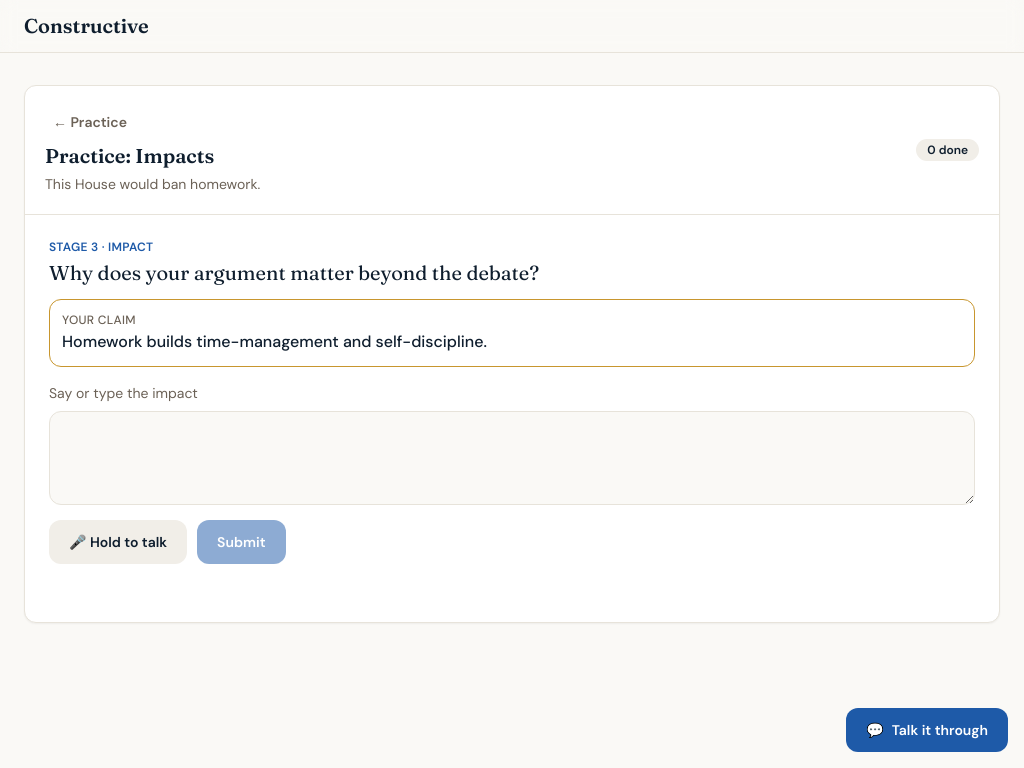
Test: PracticeShell › completes an impact rep, increments the count, and serves a fresh rep
Expected: the text "Why does your argument matter beyond the debate?" is shown, [49, 260, 539, 285]
Type "kids get more sleep" into the text box at (512, 458), box [49, 411, 975, 505]
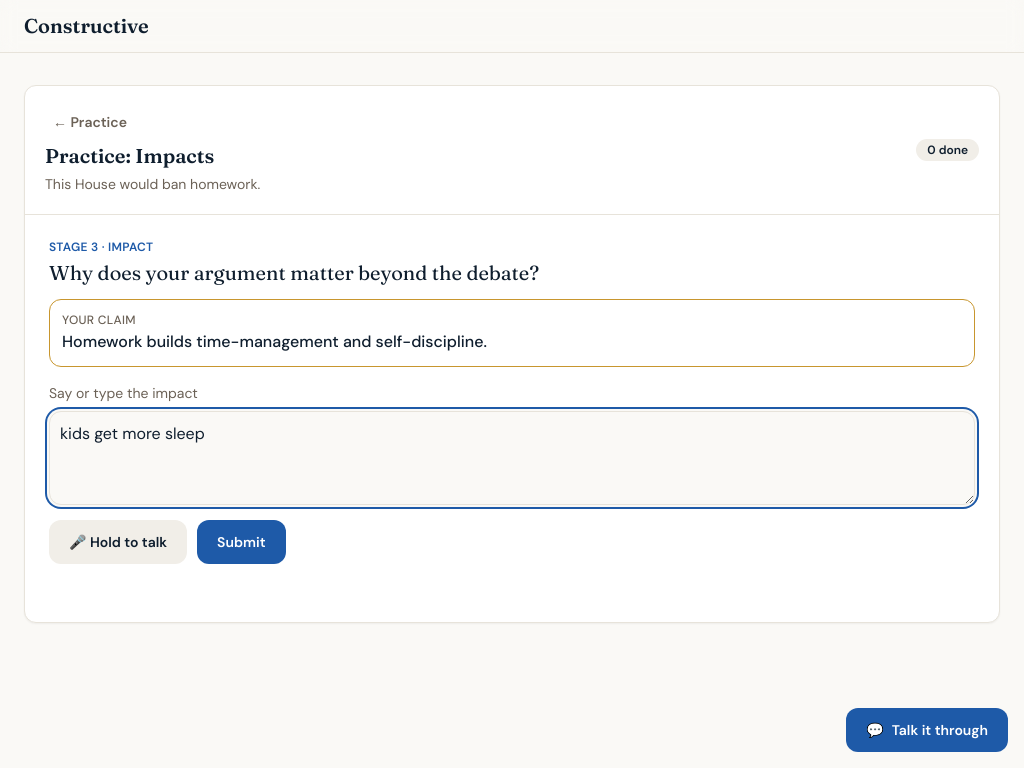
Click the button "Submit" at (241, 542), box [197, 520, 286, 564]
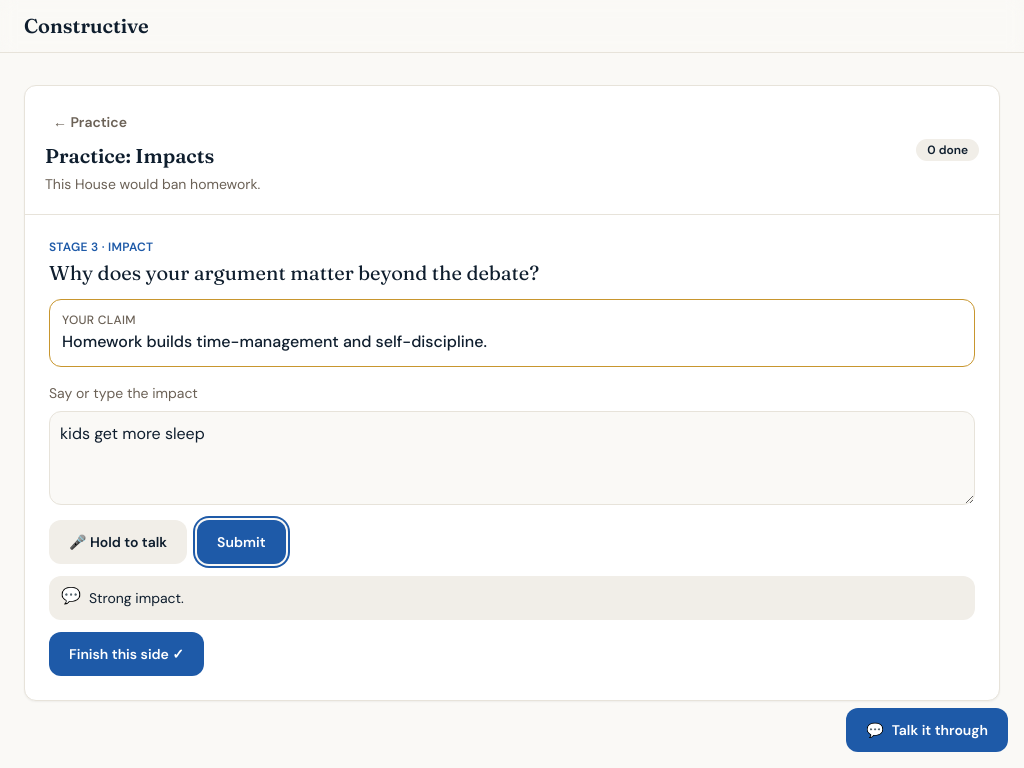
Click the button "Finish this side ✓" at (127, 654), box [49, 632, 204, 676]
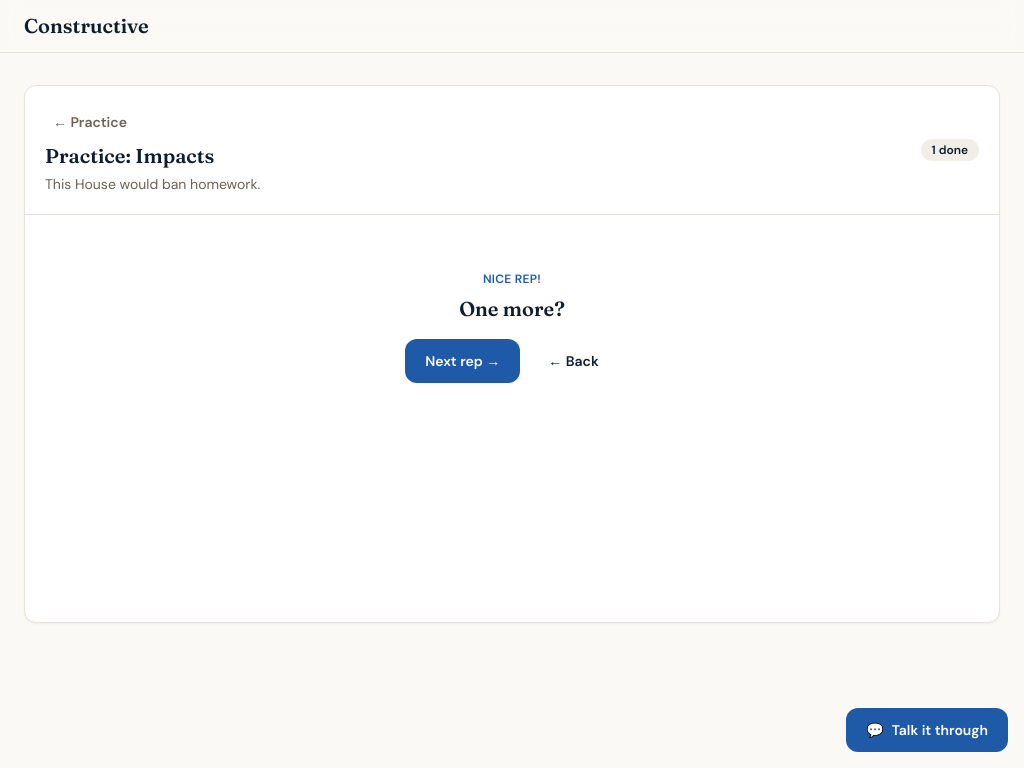
Expected: the button "Next rep →" is shown
Expected: the text "1 done" is shown, [920, 139, 979, 161]
Click the button "Next rep →" at (463, 361), box [405, 339, 520, 383]
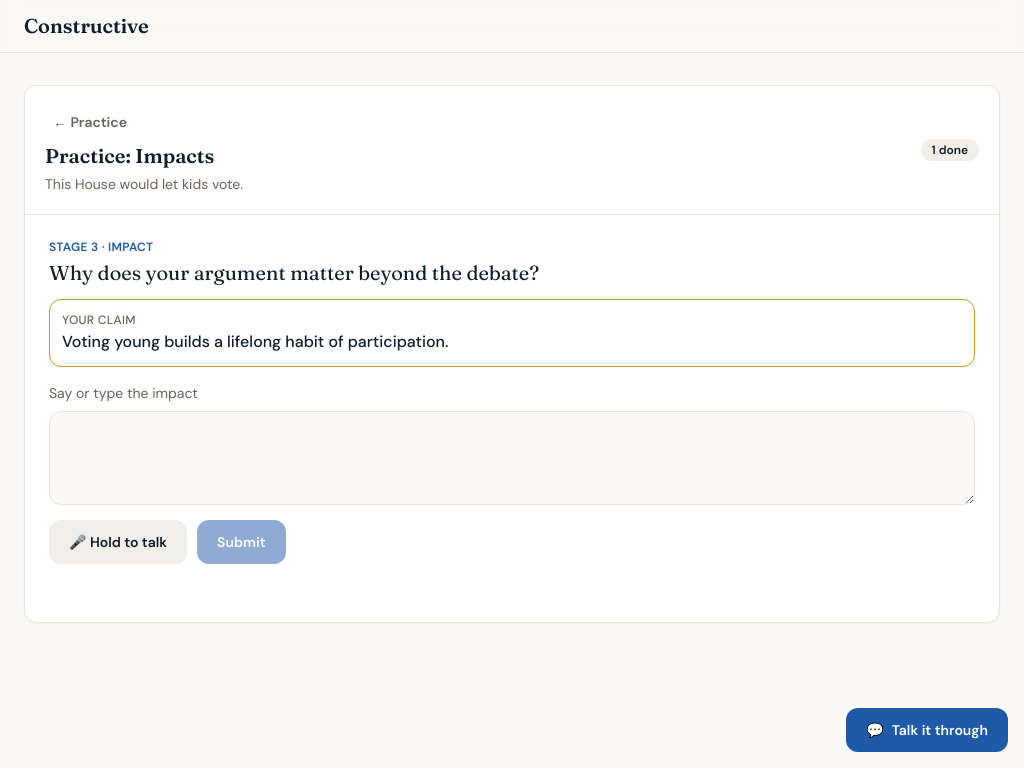
Expected: the text "Why does your argument matter beyond the debate?" is shown, [49, 260, 539, 285]
